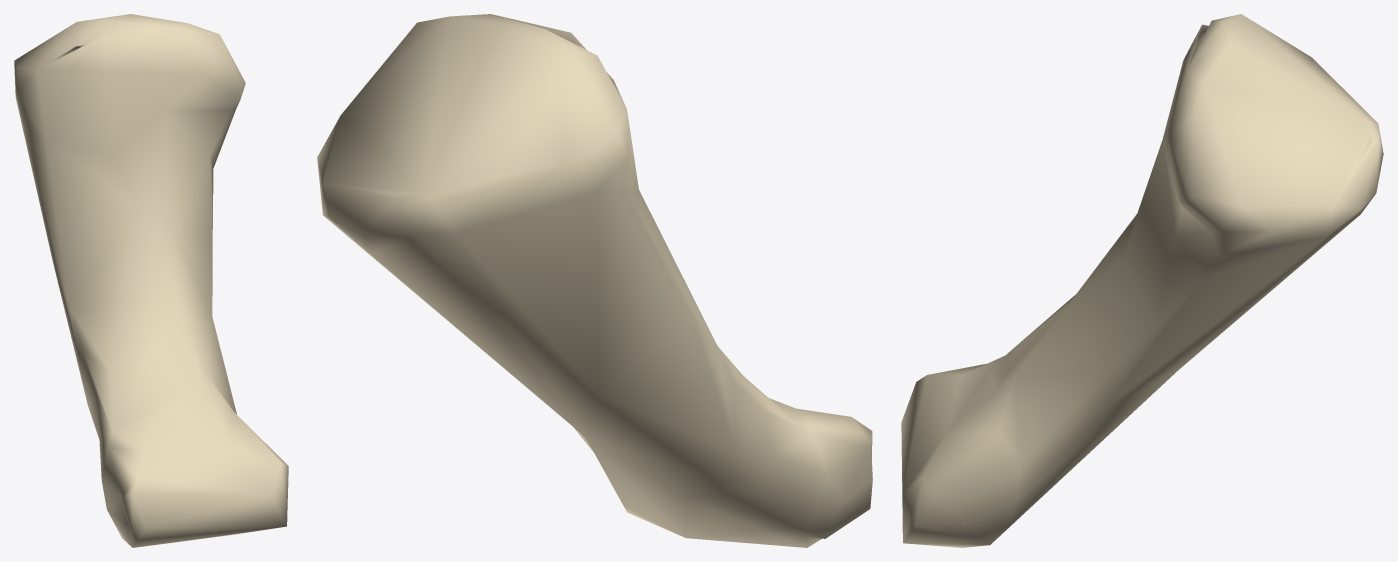
File: esqueleto-middle-phalanx-of-fifth-finger-of-hand-l.glb
3 views of the same model, side by side, from view 1: azimuth 30°, elevation 25°; view 2: azimuth 150°, elevation 25°; view 3: azimuth 270°, elevation 25° (orthographic). The views are drawn at different scales.
Parts seen in each view (by area): view 1: Middle phalanx of fifth finger of hand.l; view 2: Middle phalanx of fifth finger of hand.l; view 3: Middle phalanx of fifth finger of hand.l.
Part boxes in pixels (left/top/right/bottom): Middle phalanx of fifth finger of hand.l: left=14, top=14, right=288, bottom=547; Middle phalanx of fifth finger of hand.l: left=317, top=14, right=872, bottom=547; Middle phalanx of fifth finger of hand.l: left=901, top=14, right=1383, bottom=547.
Size of the model in its own units: 0.012 by 0.0205 by 0.0173.
